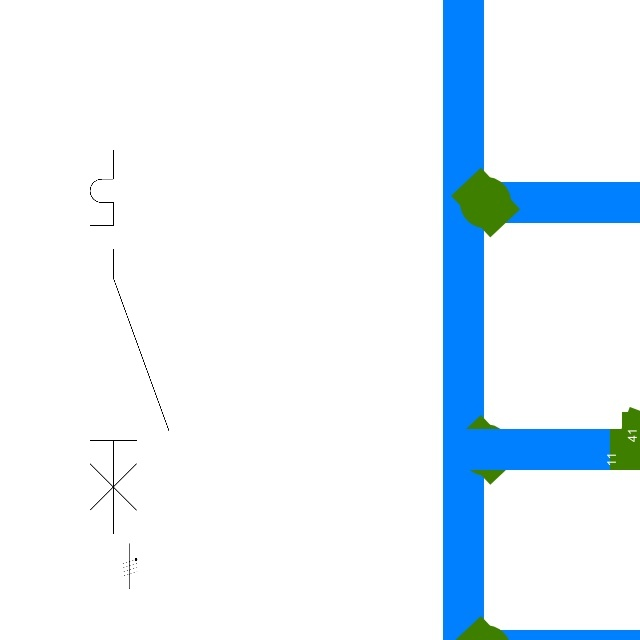interruptor_termomagnetico: (80, 140, 179, 544)
